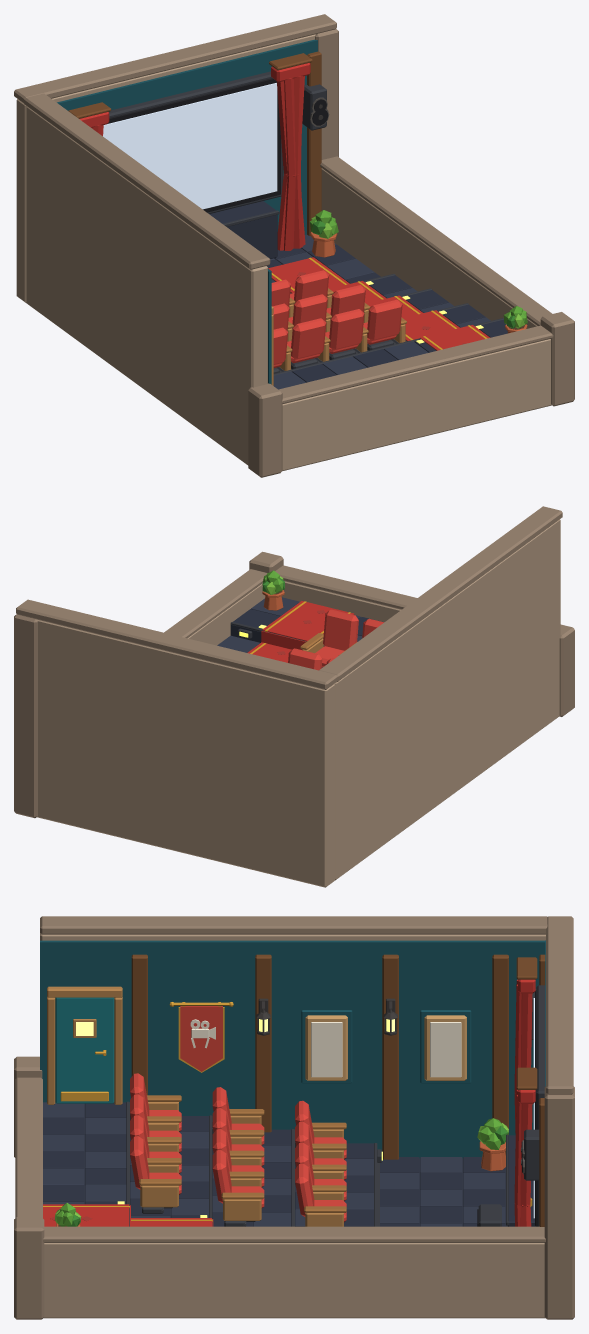
File: cinema_auditorium.glb
3 views of the same model, one above another, from view 1: azimuth 30°, elevation 25°; view 2: azimuth 150°, elevation 25°; view 3: azimuth 270°, elevation 25° (orthographic). The views are drawn at different scales.
Visible parts, largest first — view 1: cinema_auditorium; view 2: cinema_auditorium; view 3: cinema_auditorium.
Part boxes in pixels (x1,y1,x2,y2): cinema_auditorium: [14, 14, 574, 477]; cinema_auditorium: [14, 506, 574, 887]; cinema_auditorium: [14, 916, 574, 1319].
Size of the model in its own units: 5.96 by 3.74 by 8.16.
